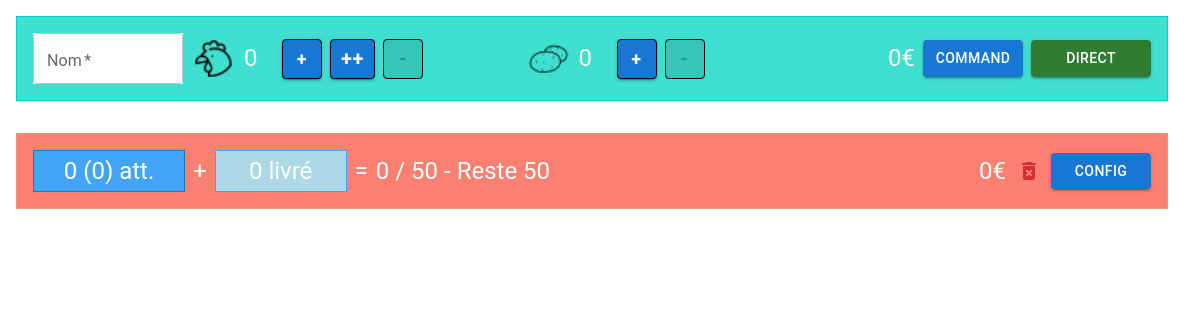
it: handles new order
// Remplissez le formulaire de commande
Type "John Doe" into the field labelled "Nom *" at (108, 58), box x1=33 y1=33 x2=183 y2=84
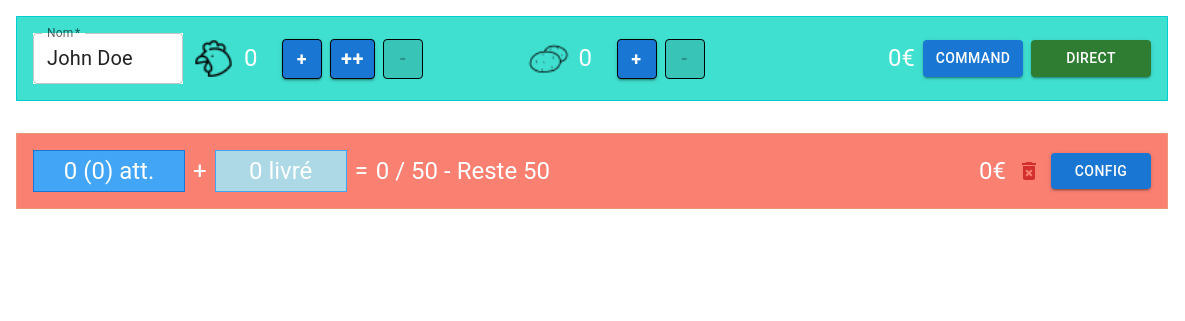
Press the mouse on the 1st button titled "Ajouter un demi poulet" at (302, 58), box x1=282 y1=38 x2=322 y2=78
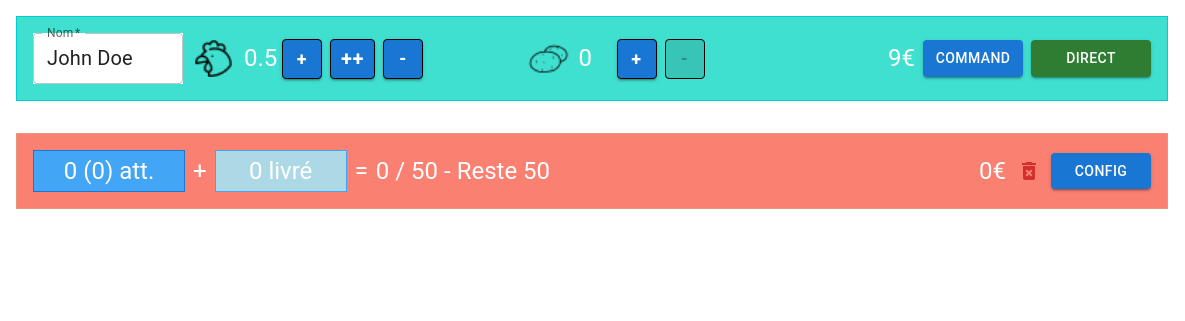
Press the mouse on the 2nd button titled "Ajouter un godet de pommes de terre" at (636, 58), box x1=616 y1=38 x2=656 y2=78
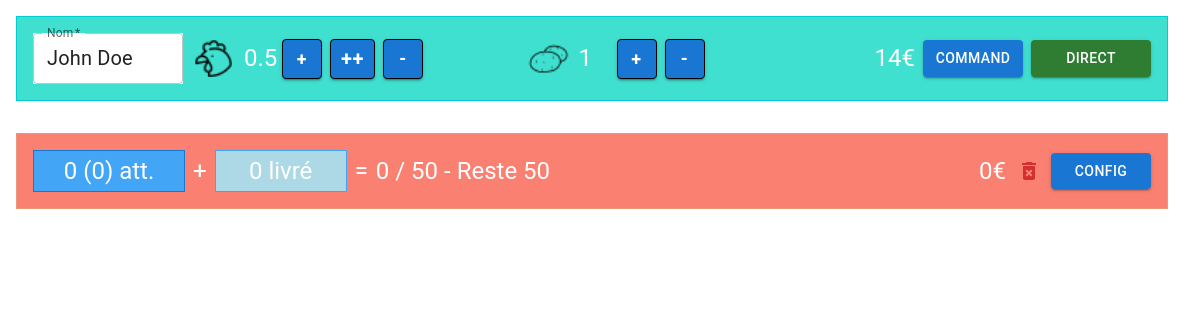
// Soumettez le formulaire de commande
Click the button "Command" at (973, 59), box x1=923 y1=40 x2=1023 y2=77
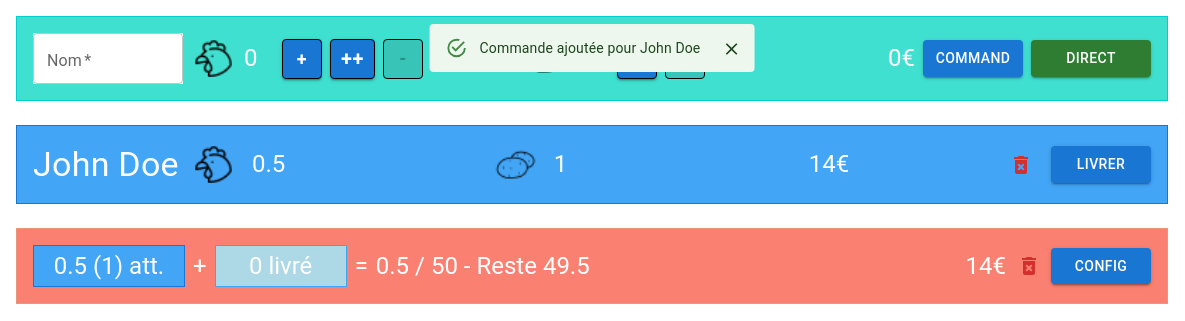
Result: the text "Commande ajoutée pour John Doe" is shown 2 times at x1=480 y1=40 x2=700 y2=56; x1=33 y1=144 x2=183 y2=186
